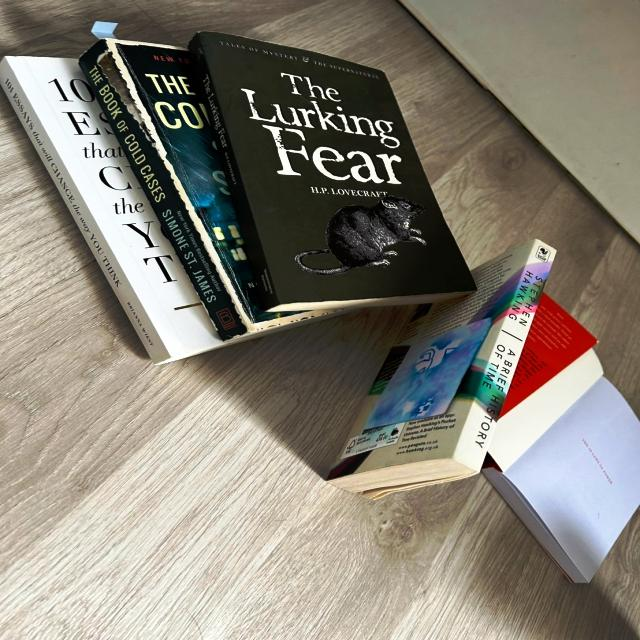Book: (0, 56, 340, 364), (188, 32, 476, 312), (85, 40, 280, 340), (332, 240, 556, 494), (483, 373, 639, 586), (498, 291, 598, 416)
